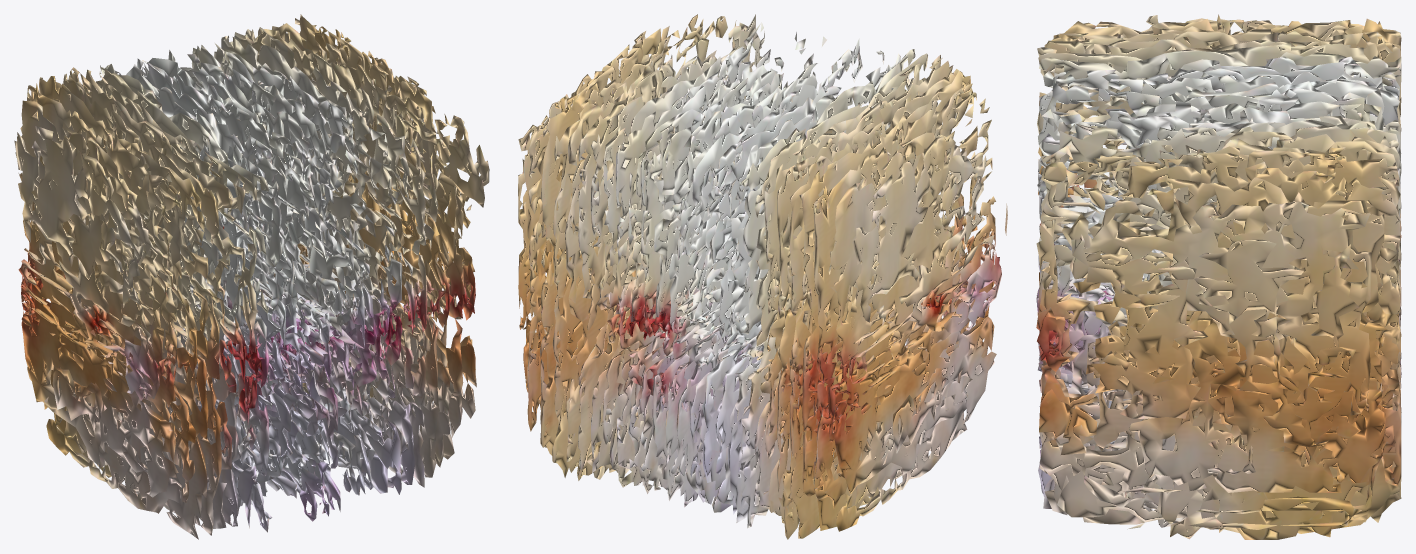
Rendered from signpost_wooden.glb.
3 views of the same model, side by side, from view 1: azimuth 30°, elevation 25°; view 2: azimuth 150°, elevation 25°; view 3: azimuth 270°, elevation 25° (orthographic). The views are drawn at different scales.
Visible parts, largest first — view 1: world; view 2: world; view 3: world.
Boxes of the visible parts, <box> form: world: <box>14,14,489,539</box>; world: <box>518,14,1007,539</box>; world: <box>1036,14,1401,539</box>.
Size of the model in its own units: 0.8914 by 0.9003 by 0.7656.
1 material, 1 textured.
